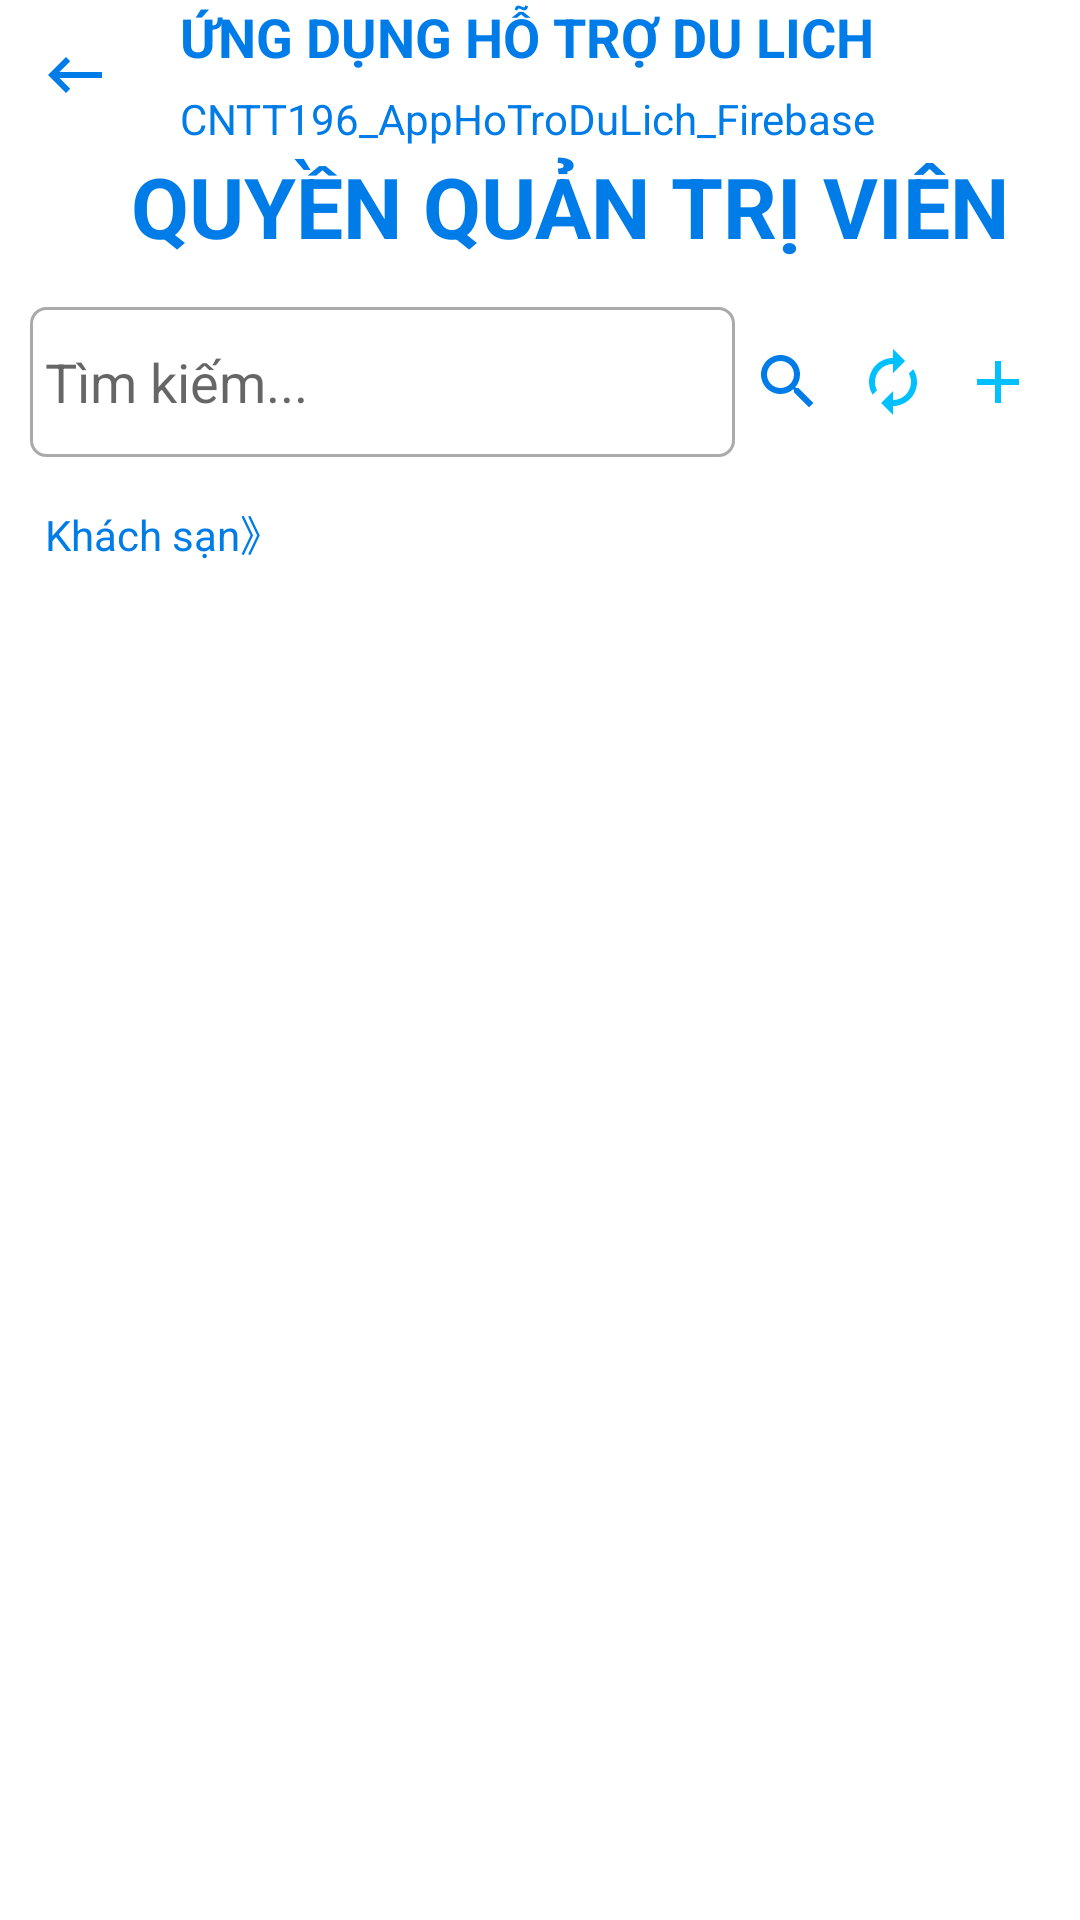

Icon click points for this 1080×1920 phone screenshot, format point (x, y):
add: point (998, 382)
autorenew: point (893, 382)
keyboard backspace: point (75, 75)
search: point (787, 381)
